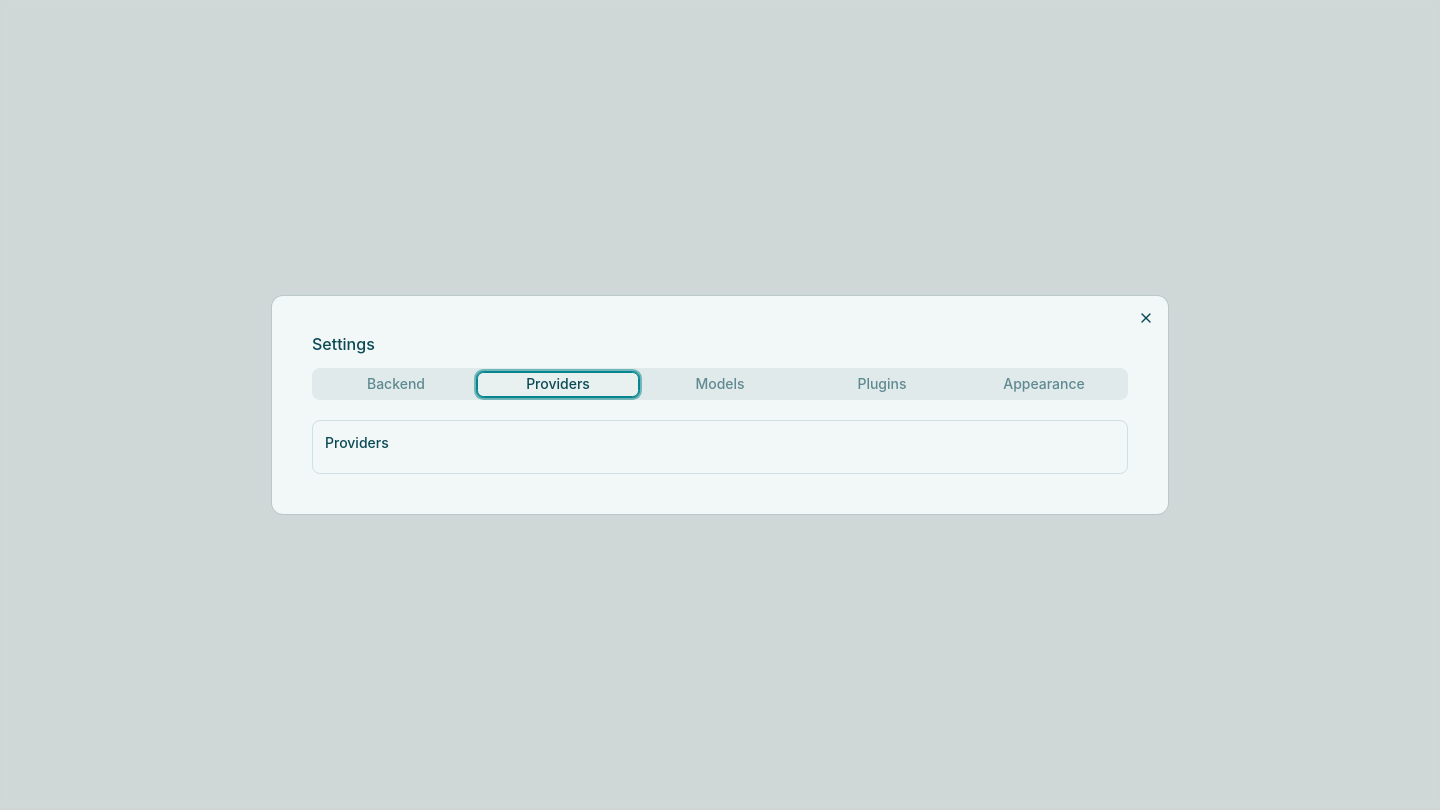
SettingsModal › edit button opens pre-filled form for stdio servers
Click the tab "Plugins": (882, 384) [801,372,963,396]
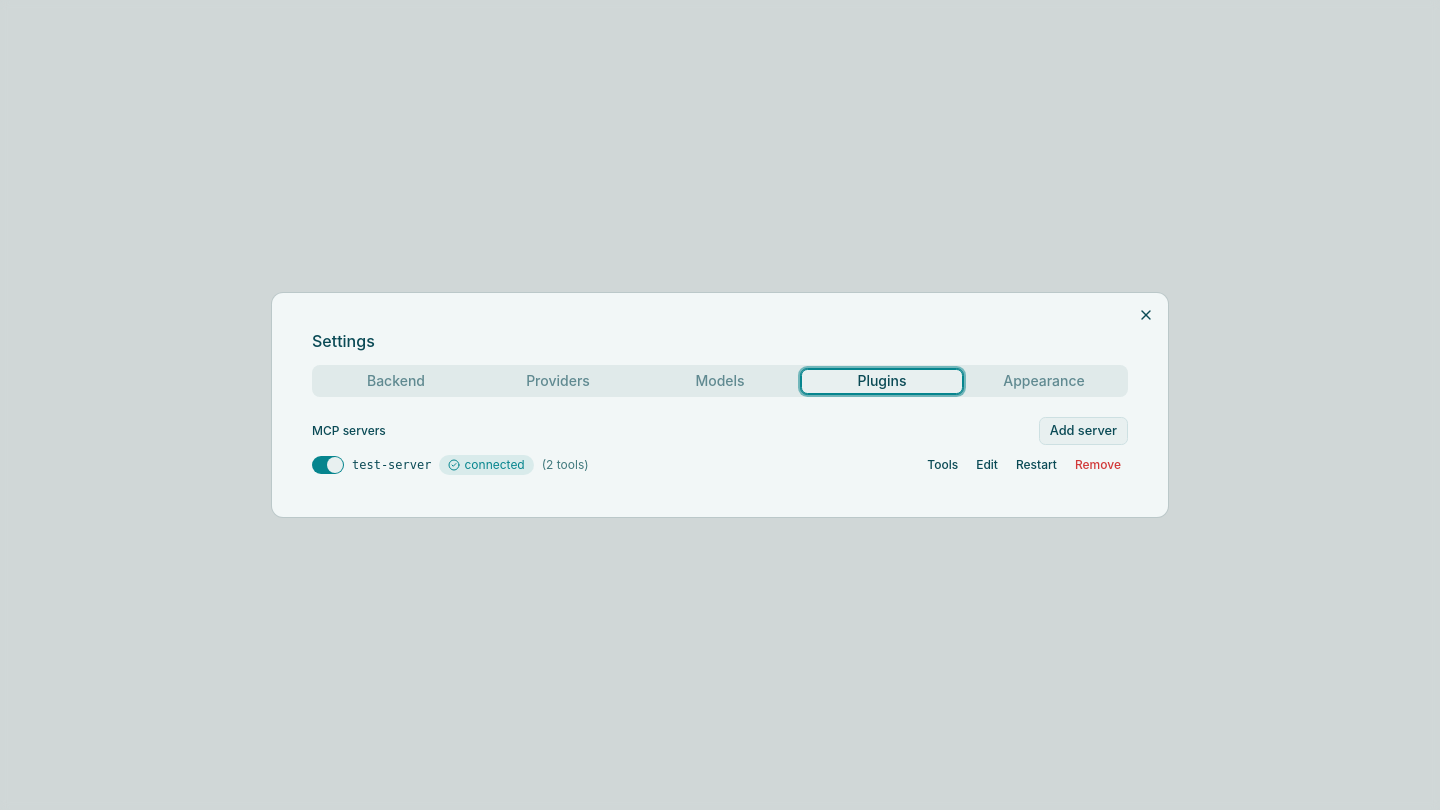
Click the button titled "Edit": (987, 465) [969,453,1005,477]
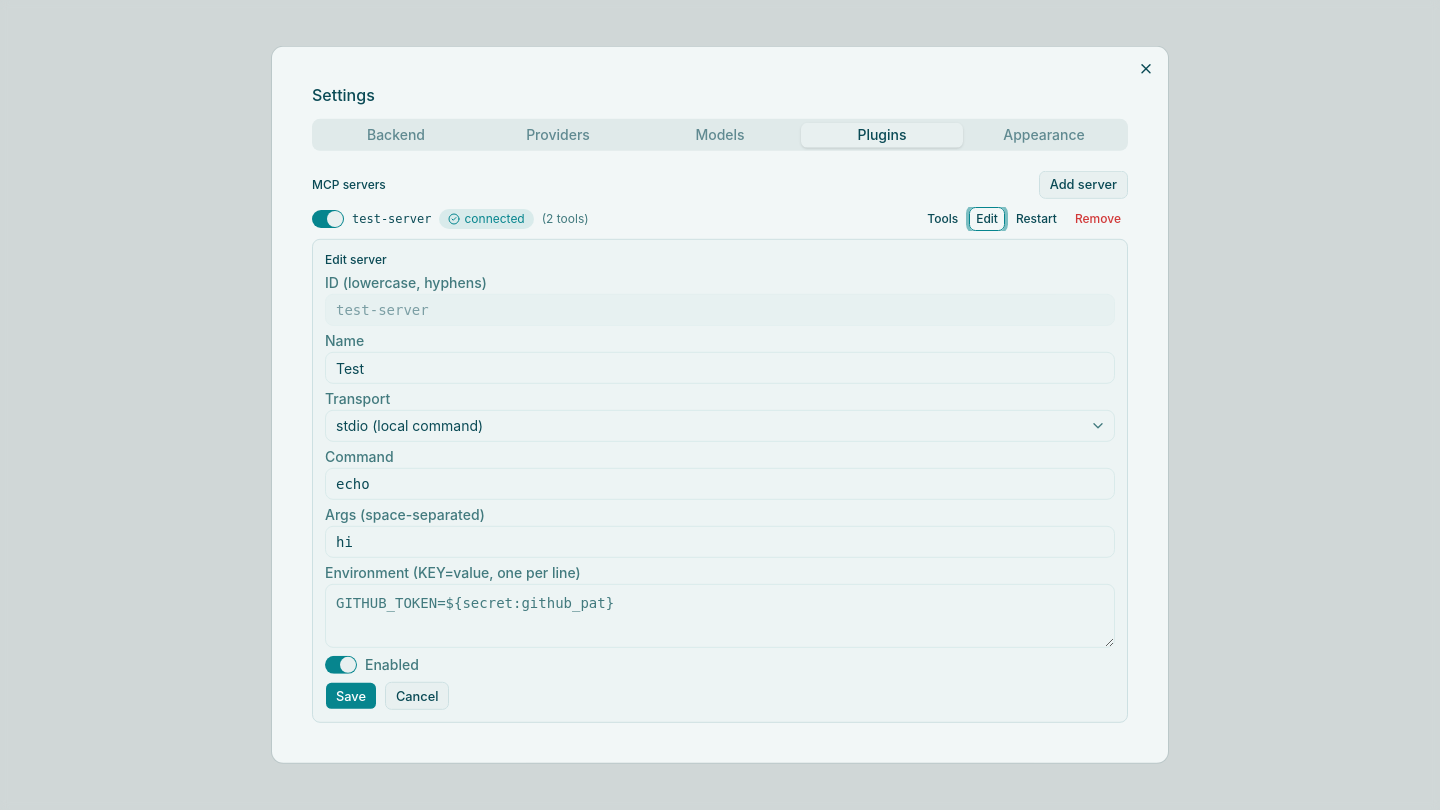
Expected: the text "Edit server" is shown, [325,252,387,267]
Expected: the field labelled "ID (lowercase, hyphens)" holds "test-server", [325,294,1115,326]
Expected: the field labelled "Command" holds "echo", [325,468,1115,500]
